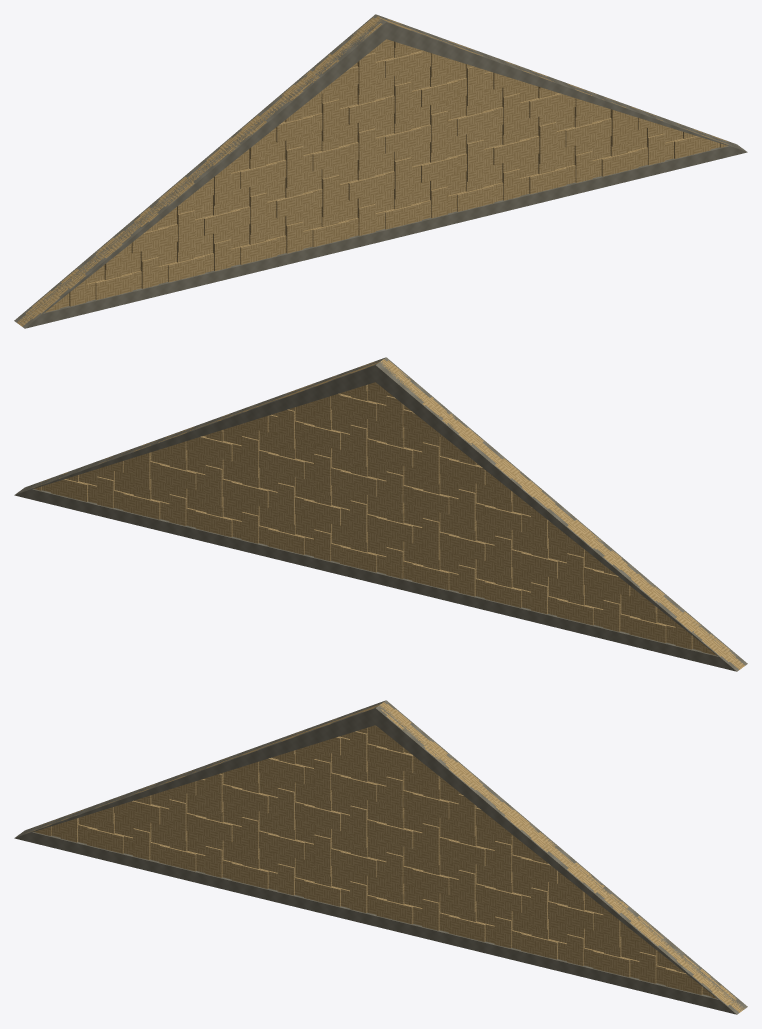
Rendered from MRP_Gable_Bamboo_4m.fbx.
The picture shows the model from 3 angles, top to bottom: view 1: azimuth 30°, elevation 25°; view 2: azimuth 150°, elevation 25°; view 3: azimuth 330°, elevation 25°; orthographic projection.
Visible parts, largest first — view 1: Body; view 2: Body; view 3: Body.
Part boxes in pixels (x1,y1,x2,y2): Body: (14,14,747,328); Body: (14,357,747,671); Body: (14,700,747,1014).
Bounding box in the file's own units: 4 × 1.15 × 0.104.
